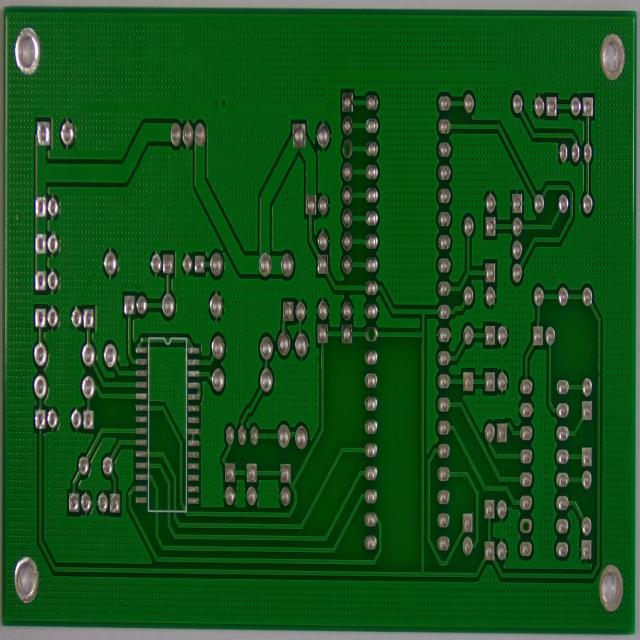missing_hole: (363, 322, 380, 350), (518, 515, 535, 537), (340, 138, 354, 161)
